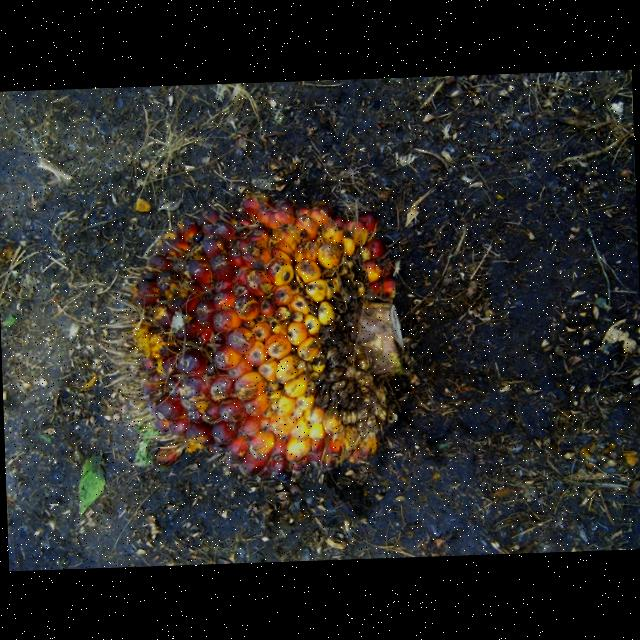Ripe: (113, 192, 398, 489)
